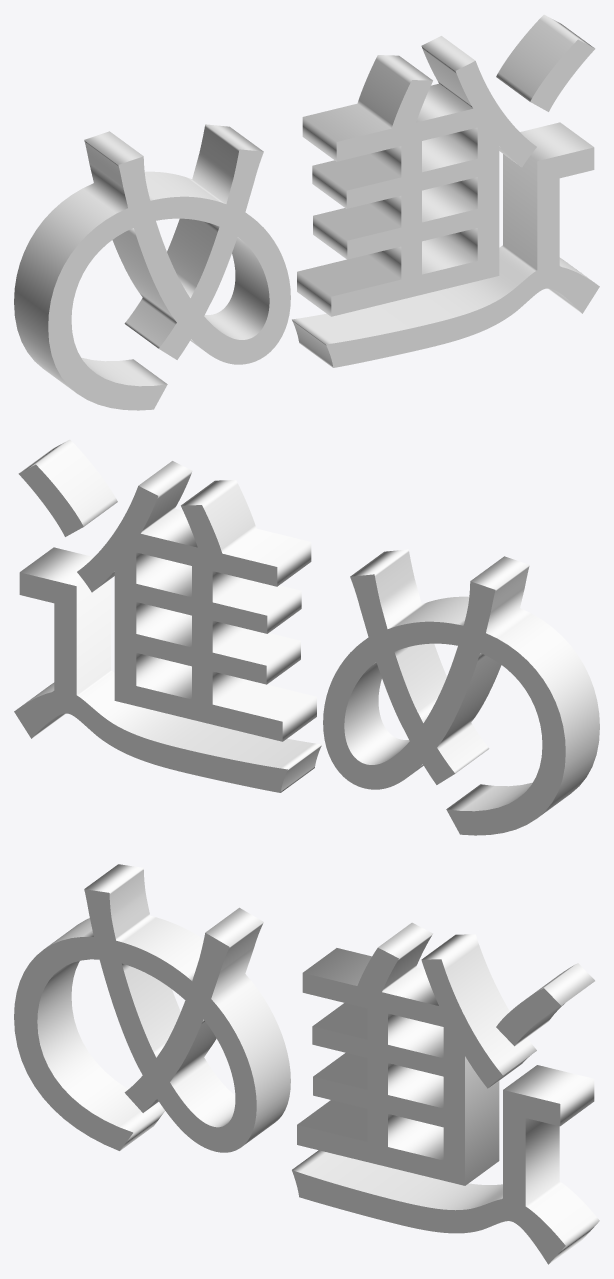
File: Susume.obj
3 renders of one model, top to bottom at view 1: azimuth 30°, elevation 25°; view 2: azimuth 150°, elevation 25°; view 3: azimuth 330°, elevation 25°, orthographic.
Parts seen in each view (by area): view 1: テキスト; view 2: テキスト; view 3: テキスト.
Part boxes in pixels (x1,y1,x2,y2): テキスト: (14, 14, 599, 410); テキスト: (14, 439, 599, 835); テキスト: (14, 864, 599, 1264).
Size of the model in its own units: 1.86 by 0.902 by 0.2.
